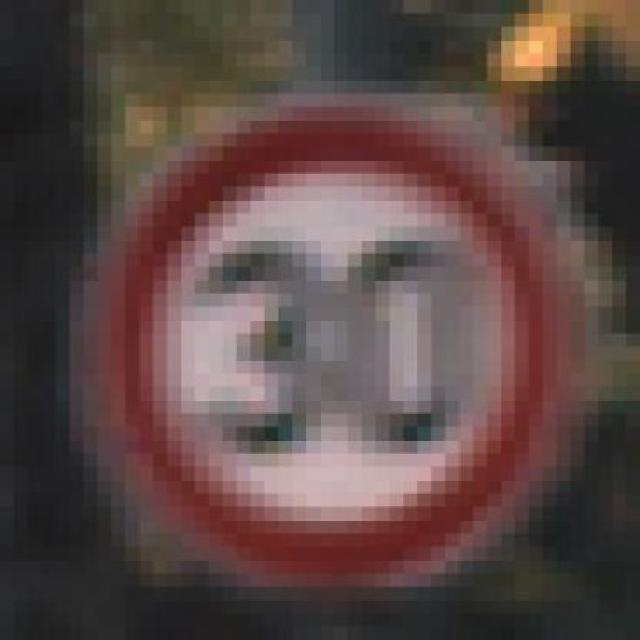Speed Limit 30 KMPh: (56, 79, 598, 587)
